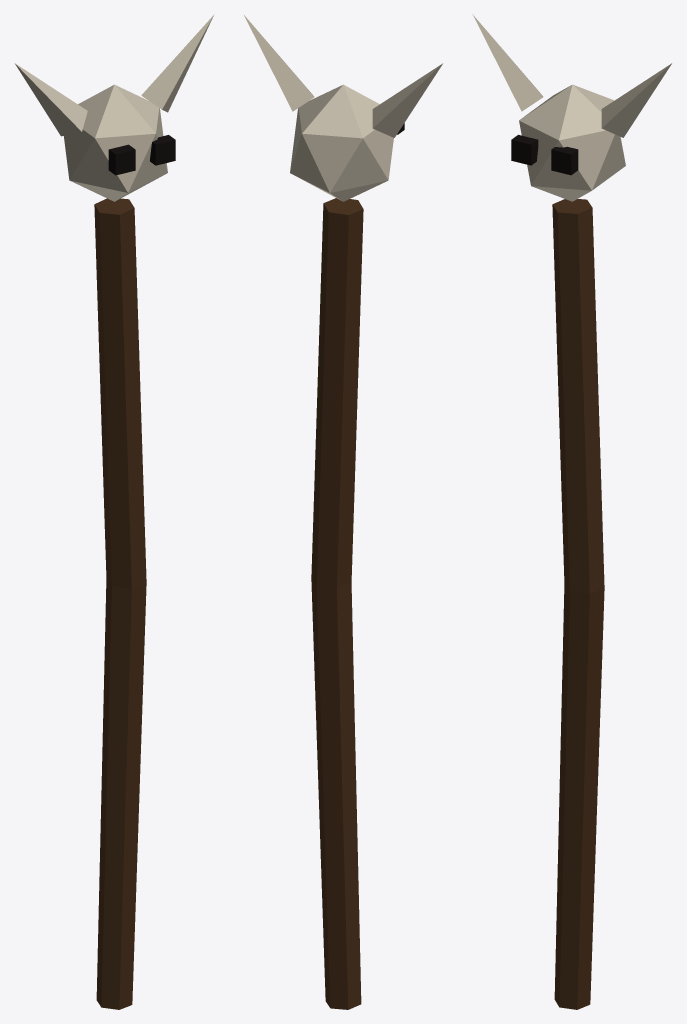
File: gear_skull_staff.glb
The picture shows the model from 3 angles, left to right: view 1: azimuth 30°, elevation 25°; view 2: azimuth 150°, elevation 25°; view 3: azimuth 330°, elevation 25°; orthographic projection.
Visible parts, largest first — view 1: gear_skull_staff; view 2: gear_skull_staff; view 3: gear_skull_staff.
Boxes of the visible parts, bbox=[...] form: gear_skull_staff: bbox=[15, 14, 214, 1009]; gear_skull_staff: bbox=[244, 15, 442, 1009]; gear_skull_staff: bbox=[472, 14, 671, 1009].
Size of the model in its own units: 0.3 by 1.38 by 0.1525.
